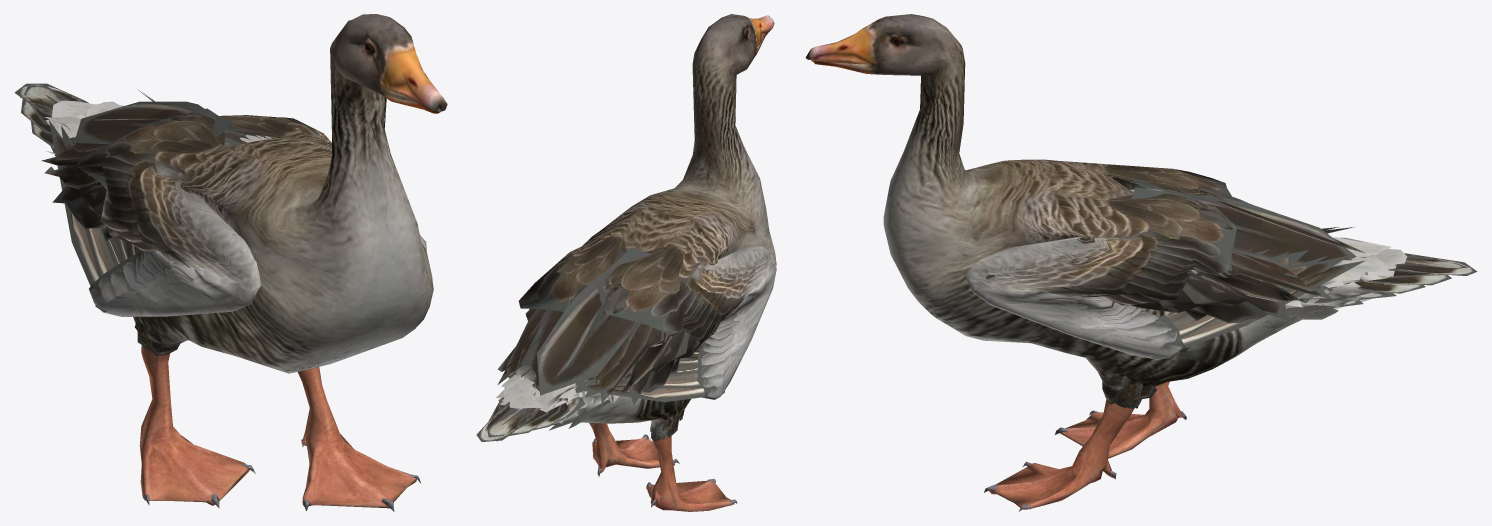
Rendered from goose.glb.
3 views of the same model, side by side, from view 1: azimuth 30°, elevation 25°; view 2: azimuth 150°, elevation 25°; view 3: azimuth 270°, elevation 25° (orthographic). The views are drawn at different scales.
Visible parts, largest first — view 1: Goose001_applied_clean_M_Goose_0_M_Goose_0; view 2: Goose001_applied_clean_M_Goose_0_M_Goose_0; view 3: Goose001_applied_clean_M_Goose_0_M_Goose_0.
Part boxes in pixels (bbox=[...]): Goose001_applied_clean_M_Goose_0_M_Goose_0: bbox=[14, 14, 447, 511]; Goose001_applied_clean_M_Goose_0_M_Goose_0: bbox=[476, 14, 776, 511]; Goose001_applied_clean_M_Goose_0_M_Goose_0: bbox=[805, 14, 1477, 511].
Size of the model in its own units: 0.293 by 0.6184 by 0.8355.
1 material, 1 textured.
